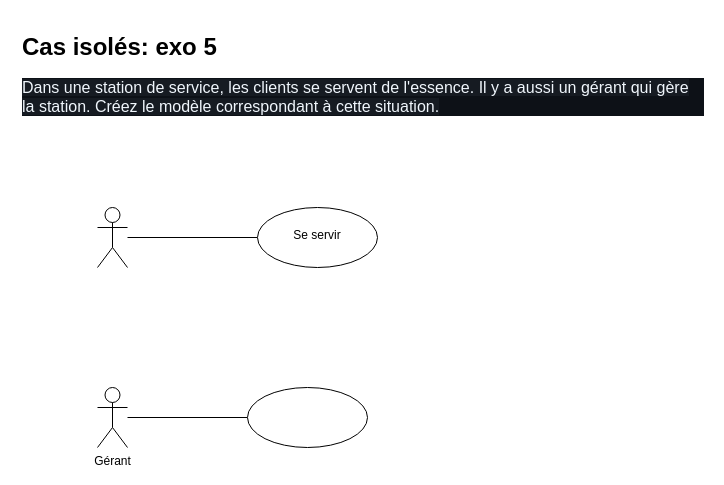
The diagram is 724 pixels wide and 485 high, and some of its shapes have lost their labels. Here are the shapes that lost their labels. From the top down, the box of each, then its label:
(96, 206, 128, 268): Client
(246, 386, 368, 448): Gérer la station
